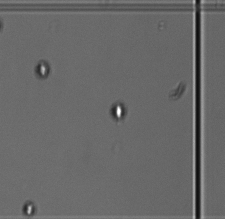Living Cell: (109, 101, 128, 120), (34, 60, 50, 78), (21, 201, 37, 216)
